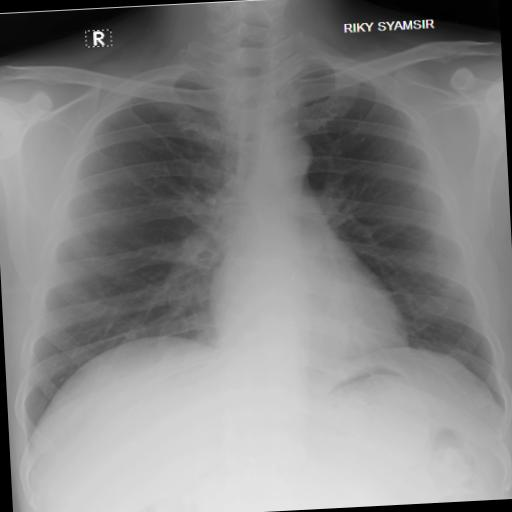normal: (0, 31, 512, 454)
